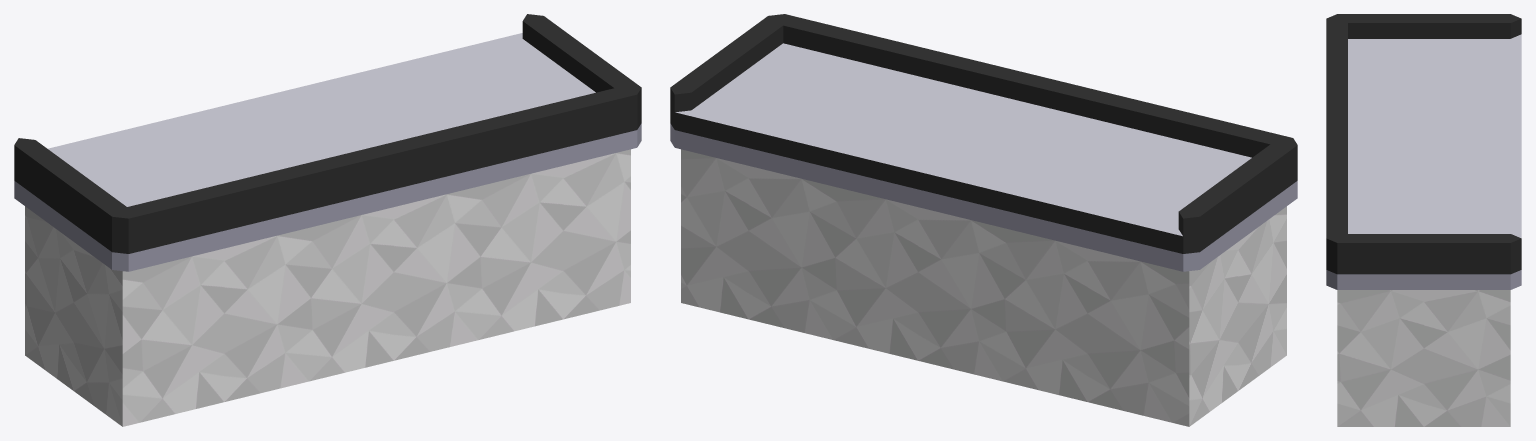
Rendered from LabBench.fbx.
3 views of the same model, side by side, from view 1: azimuth 30°, elevation 25°; view 2: azimuth 150°, elevation 25°; view 3: azimuth 270°, elevation 25° (orthographic). The views are drawn at different scales.
Visible parts, largest first — view 1: block_default_18, block_default_17, block_default_16, roof_corner_15, roof_corner_14, roof_side_11, roof_square_9, roof_square_6, roof_square_8; view 2: block_default_18, roof_corner_15, roof_corner_14, roof_side_11, block_default_17, block_default_16, roof_square_9, roof_square_6, roof_square_8; view 3: block_default_16, roof_corner_14, roof_corner_15, roof_side_11, roof_square_6.
Part boxes in pixels (x1,y1,x2,y2): block_default_18: [25, 206, 292, 426]; block_default_17: [292, 190, 461, 385]; block_default_16: [461, 149, 630, 343]; roof_corner_15: [14, 114, 301, 253]; roof_corner_14: [355, 14, 641, 171]; roof_side_11: [184, 73, 471, 212]; roof_square_9: [14, 181, 298, 271]; roof_square_6: [467, 123, 641, 188]; roof_square_8: [298, 171, 467, 230]; block_default_18: [1019, 206, 1286, 426]; roof_corner_15: [1010, 97, 1297, 253]; roof_corner_14: [670, 14, 958, 171]; roof_side_11: [840, 55, 1127, 212]; block_default_17: [850, 190, 1019, 385]; block_default_16: [681, 149, 850, 343]; roof_square_9: [1013, 181, 1297, 271]; roof_square_6: [670, 123, 844, 188]; roof_square_8: [844, 171, 1013, 230]; block_default_16: [1337, 290, 1510, 426]; roof_corner_14: [1326, 160, 1521, 274]; roof_corner_15: [1326, 14, 1521, 111]; roof_side_11: [1326, 87, 1521, 185]; roof_square_6: [1326, 270, 1521, 289].
Bounding box in the file's own units: 31.25 × 12 × 11.25.
Materials: 4 (1 with a texture image).
